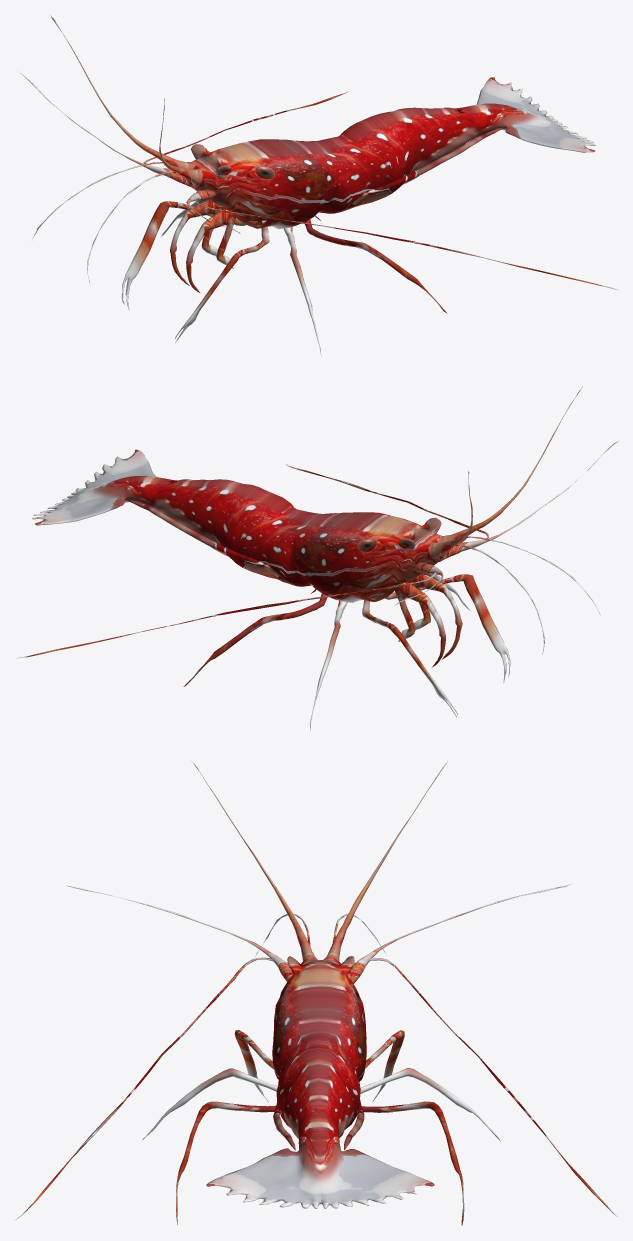
Rendered from meshy_matanoshrimp_textured_by_projection.glb.
The picture shows the model from 3 angles, top to bottom: view 1: azimuth 30°, elevation 25°; view 2: azimuth 150°, elevation 25°; view 3: azimuth 270°, elevation 25°; orthographic projection. The views are drawn at different scales.
Parts seen in each view (by area): view 1: matanoshrimp_tex; view 2: matanoshrimp_tex; view 3: matanoshrimp_tex.
Boxes of the visible parts, x1,y1,x2,y2 form: matanoshrimp_tex: (19, 15, 617, 355); matanoshrimp_tex: (17, 386, 618, 730); matanoshrimp_tex: (16, 761, 617, 1225).
Size of the model in its own units: 1 by 0.5424 by 0.9348.
1 material, 1 textured.
